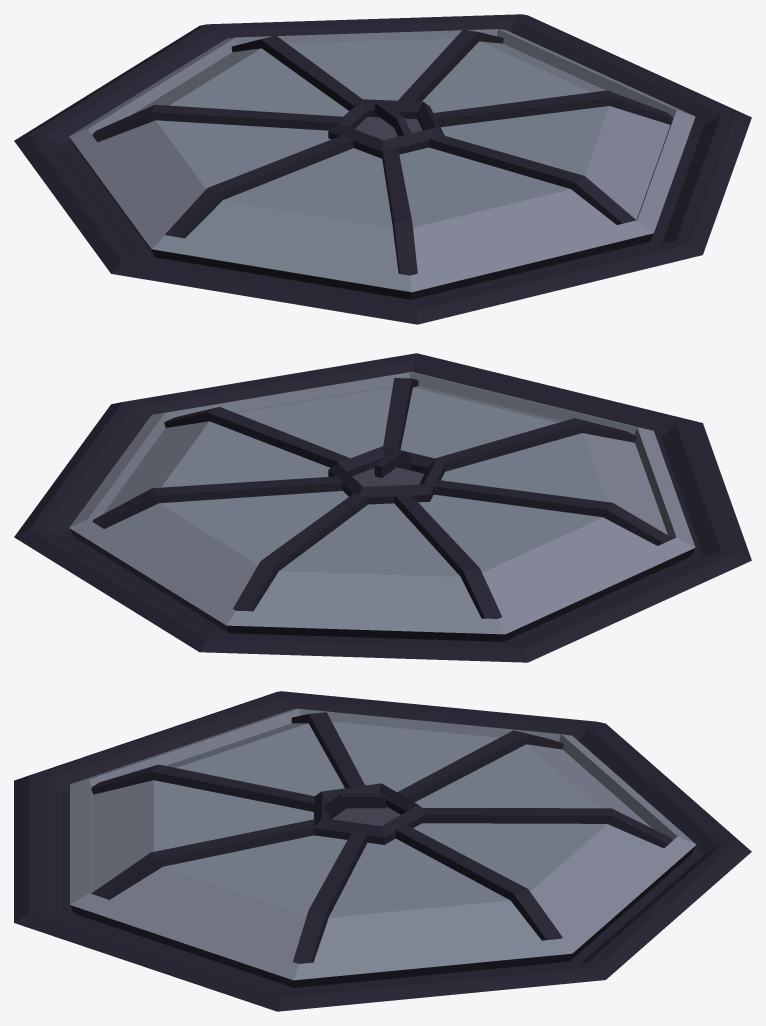
Rendered from trapA.fbx.
The picture shows the model from 3 angles, top to bottom: view 1: azimuth 30°, elevation 25°; view 2: azimuth 150°, elevation 25°; view 3: azimuth 270°, elevation 25°; orthographic projection. The views are drawn at different scales.
Visible parts, largest first — view 1: trapA; view 2: trapA; view 3: trapA.
Boxes of the visible parts, x1,y1,x2,y2 form: trapA: (14, 14, 751, 324); trapA: (14, 353, 751, 662); trapA: (14, 691, 751, 1011).
Size of the model in its own units: 233 by 42.09 by 227.
